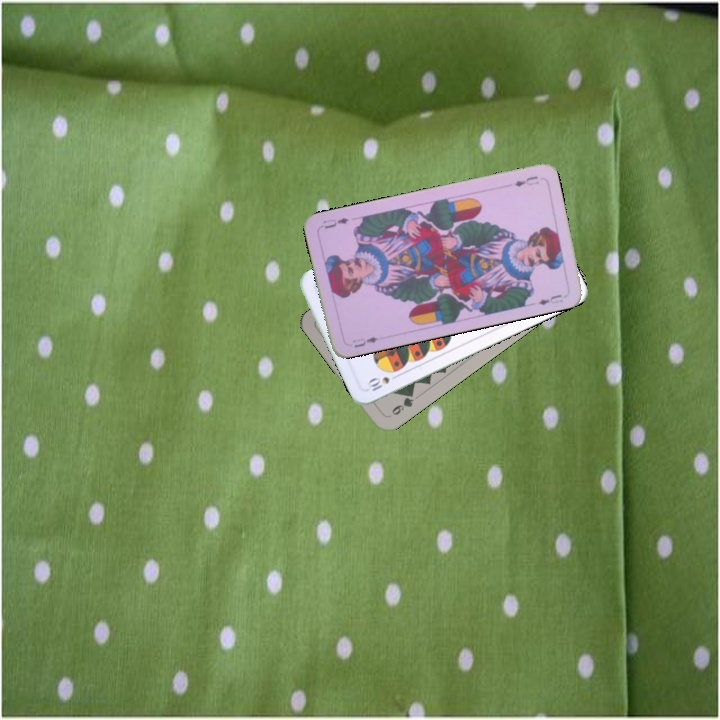EU: (348, 332, 380, 350), (510, 172, 542, 189)
G9: (384, 388, 417, 420)
S10: (364, 370, 402, 394)
